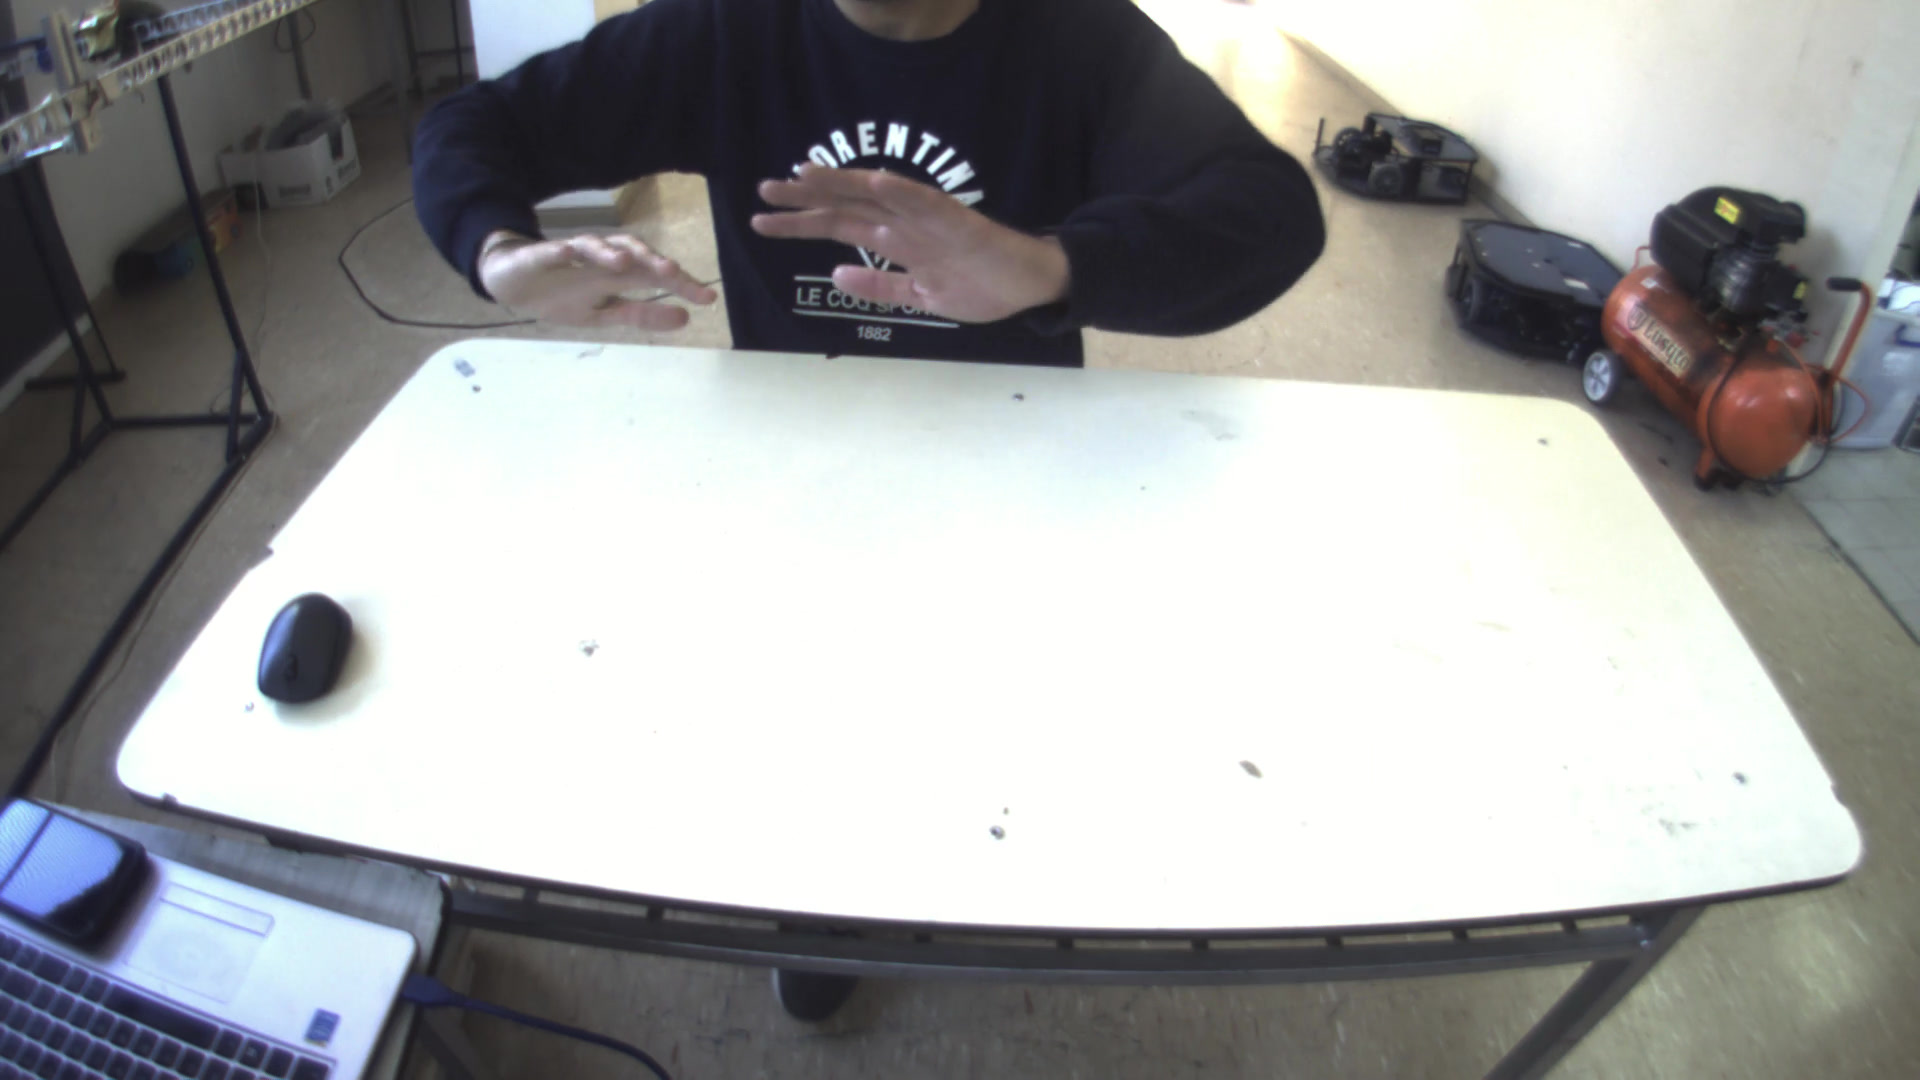hand: (735, 121, 1047, 328), (469, 207, 702, 338)
